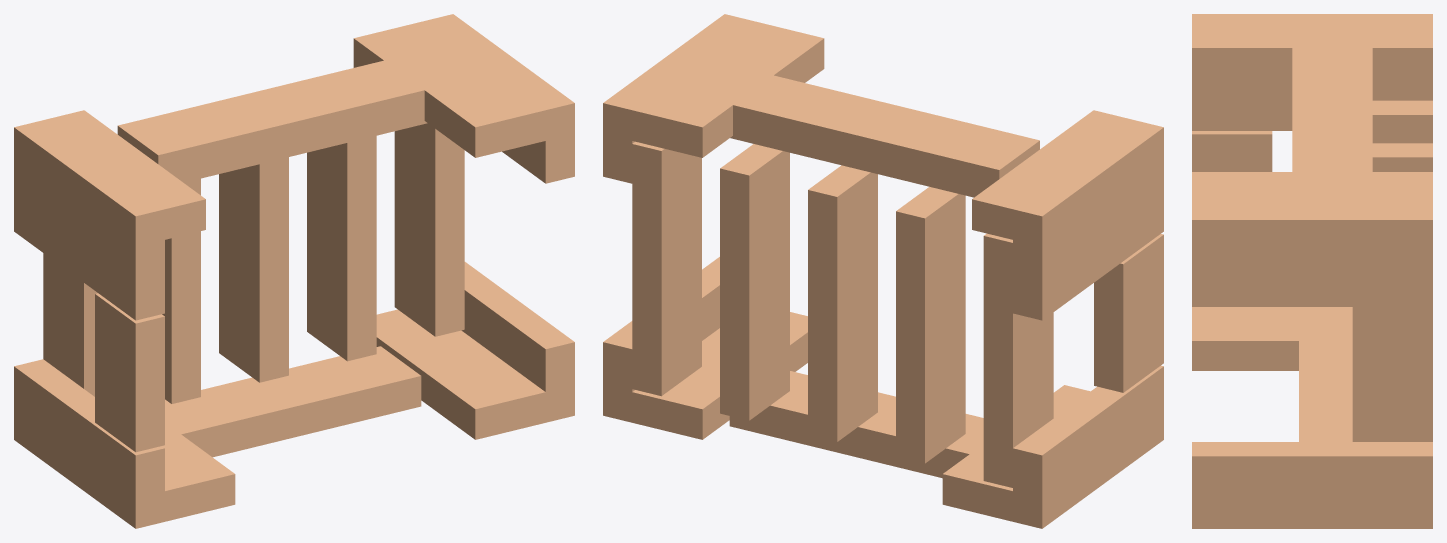
Rendered from tinker.obj.
3 views of the same model, side by side, from view 1: azimuth 30°, elevation 25°; view 2: azimuth 150°, elevation 25°; view 3: azimuth 270°, elevation 25° (orthographic).
Visible parts, largest first — view 1: obj_0; view 2: obj_0; view 3: obj_0.
Part boxes in pixels (box(x1,y1,x2,y2)): obj_0: box(14, 14, 574, 528); obj_0: box(603, 14, 1163, 528); obj_0: box(1192, 14, 1432, 528).
Size of the model in its own units: 75 by 52 by 36.
